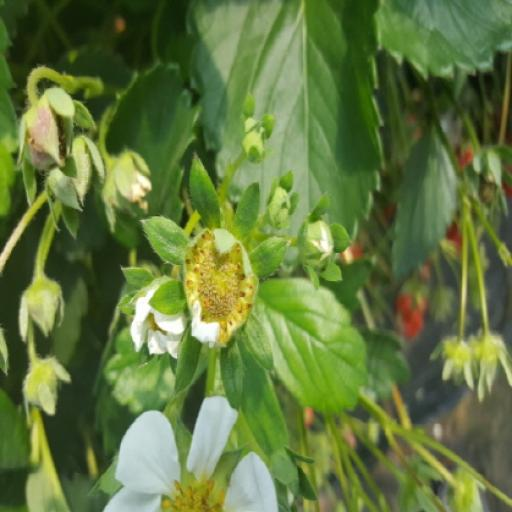Blossom Blight: (182, 229, 257, 347)
